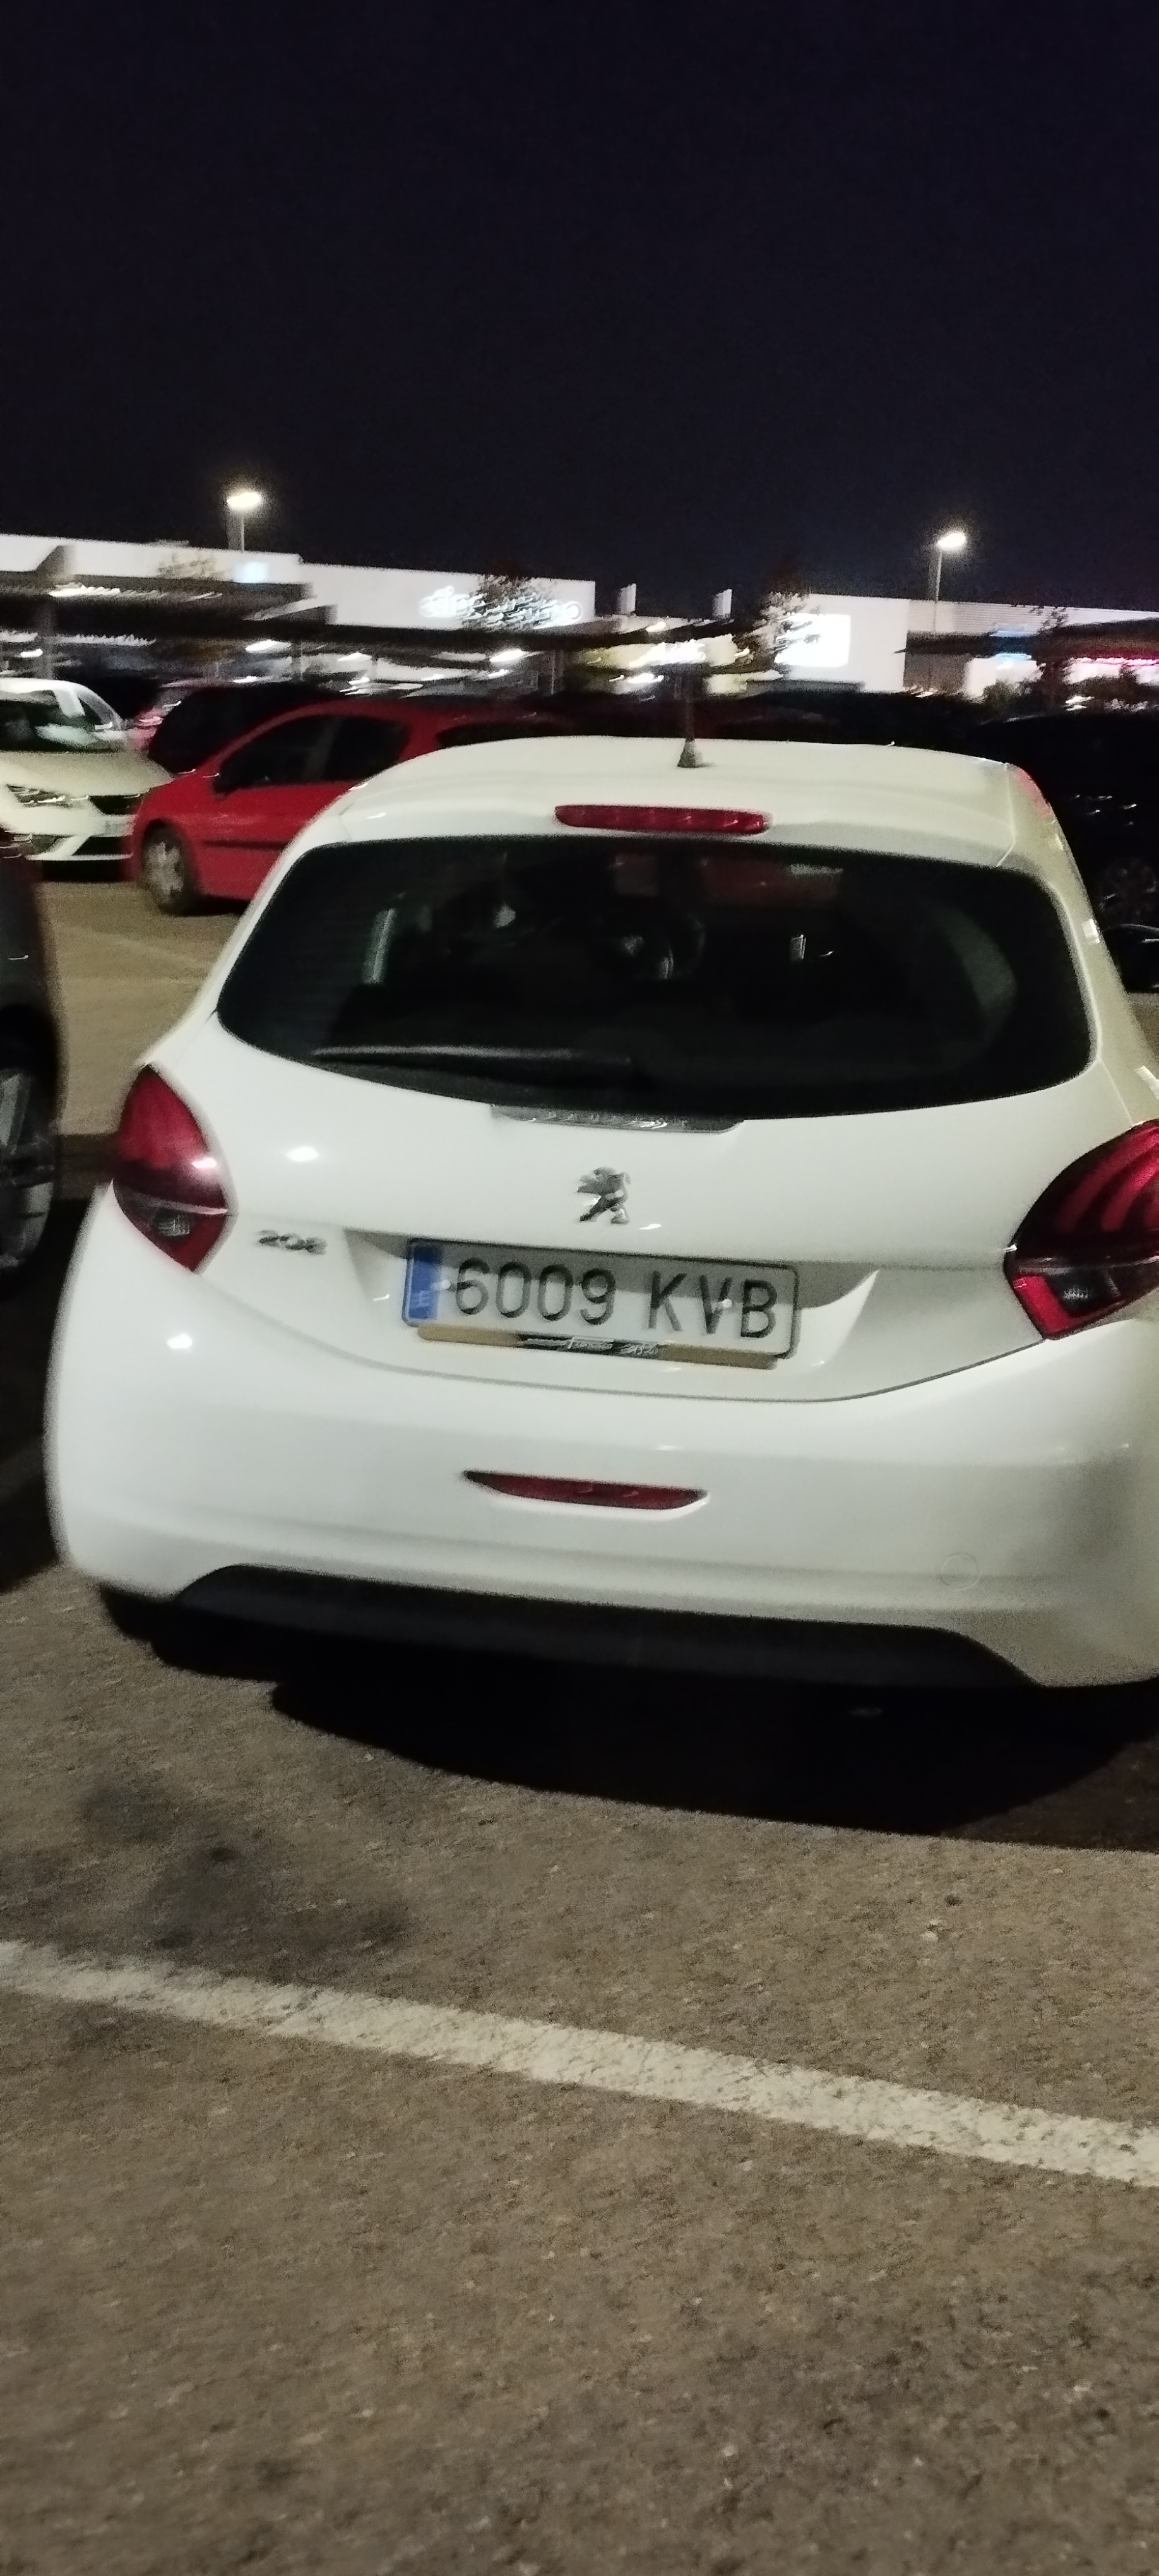Car: (61, 748, 1158, 1712)
Plate: (395, 1231, 814, 1342)
